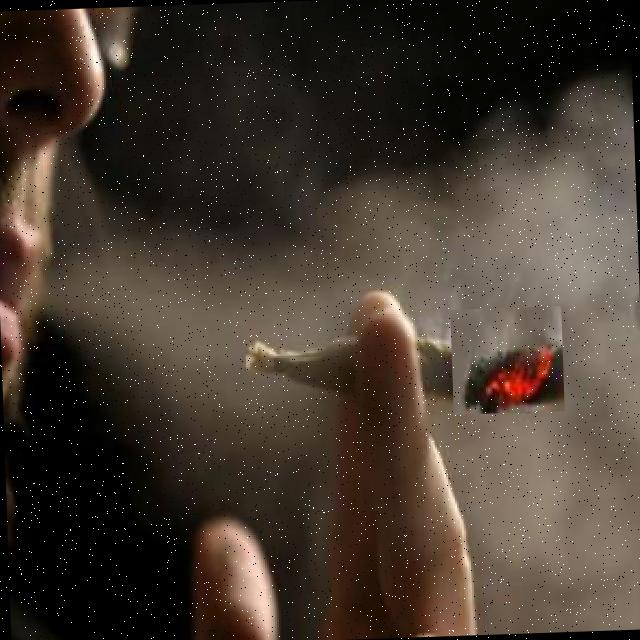fire: (450, 306, 564, 414)
